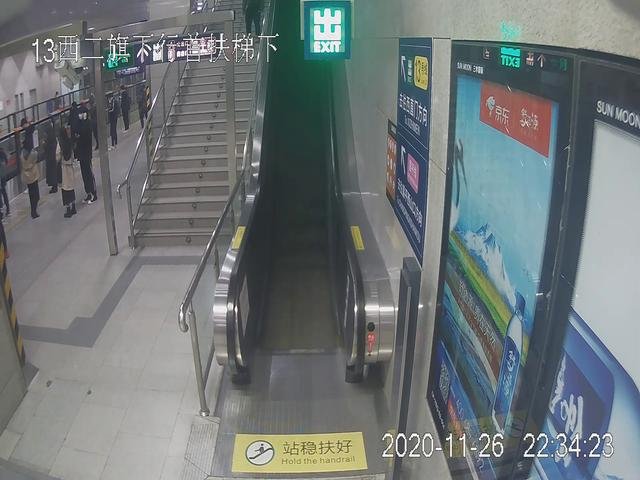person: (47, 127, 81, 222), (21, 130, 47, 221), (102, 90, 121, 150)
